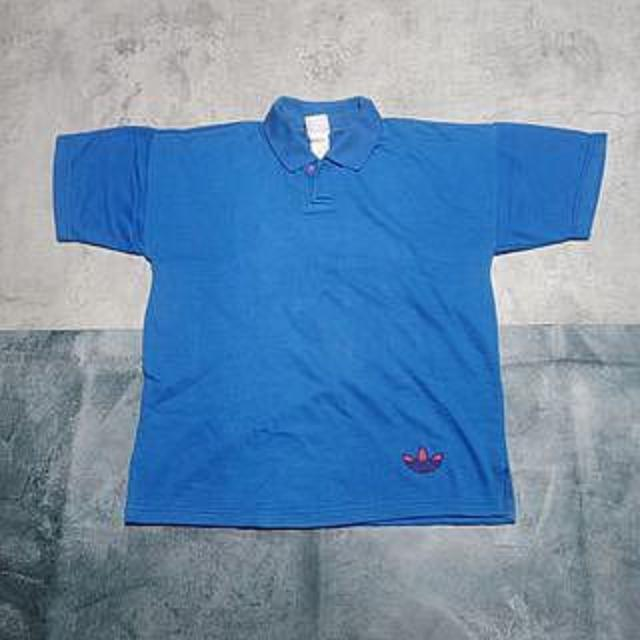T_SHIRT: (23, 82, 627, 538)
